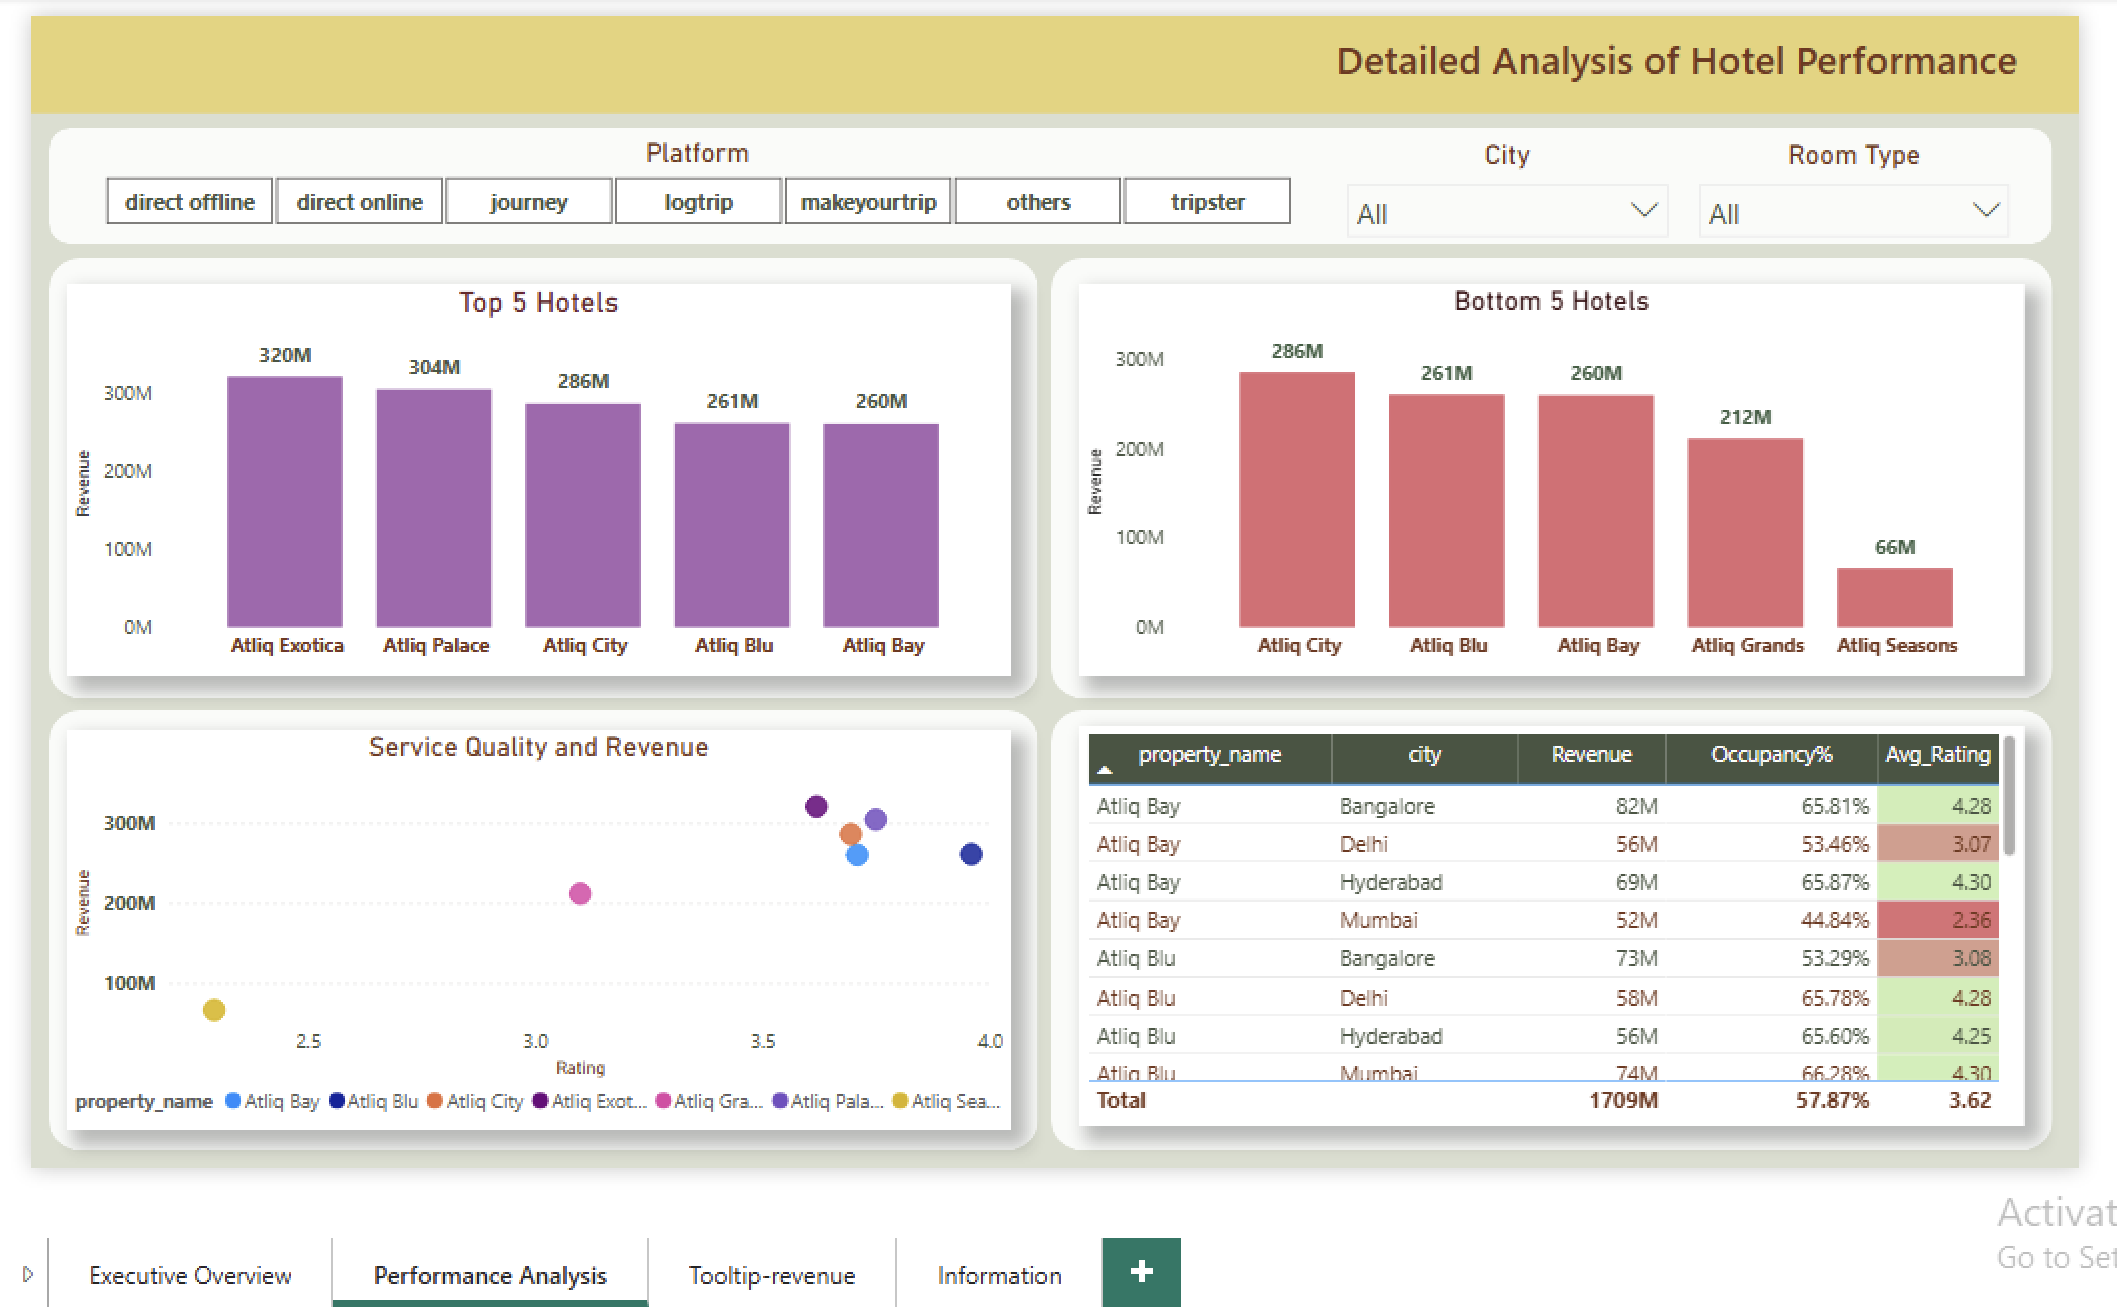

The page's visual inventory and layout, read from the dashboard file:
{"tool":"powerbi","page":{"name":"Performance Analysis","canvas":[1280,720],"ordinal":1},"visuals":[{"type":"shape","box":[11.5,151.7,618.3,275.4],"z":0},{"type":"shape","box":[637.5,151.7,626,275.4],"z":1000},{"type":"shape","box":[637.5,433.5,626,275.4],"z":2000},{"type":"shape","box":[0,0,1280,61.3],"z":5000},{"type":"shape","box":[11.5,433.5,618.3,275.4],"z":6000},{"type":"scatterChart","title":"Service Quality and Revenue","fields":{"X":["Key_Measures.Avg_Rating"],"Series":["dim_hotels.property_name"],"Y":["Key_Measures.Revenue"]},"box":[22.4,445.8,589.7,250.1],"z":7000},{"type":"tableEx","fields":{"Values":["dim_hotels.property_name","dim_hotels.city","Key_Measures.Revenue","Key_Measures.Occupancy%","Key_Measures.Avg_Rating"]},"box":[655.4,444.4,591.1,250.1],"z":8000},{"type":"columnChart","title":"Top 5 Hotels","fields":{"Y":["Key_Measures.Revenue"],"Category":["dim_hotels.property_name"]},"box":[22.4,167.7,589.7,244.5],"z":9000},{"type":"clusteredColumnChart","title":"Bottom 5 Hotels","fields":{"Category":["dim_hotels.property_name"],"Y":["Key_Measures.Revenue"]},"box":[655.4,167.7,591.1,244.5],"z":10000},{"type":"textbox","box":[677.4,4.8,569,50],"z":11000},{"type":"shape","box":[11.5,70.1,1252,72.7],"z":14000},{"type":"slicer","title":"City","fields":{"Values":["dim_hotels.city"]},"box":[812.1,76.5,220.6,66.3],"z":14500},{"type":"slicer","title":"Platform","fields":{"Values":["fact_bookings.booking_platform"]},"box":[21.7,75.2,790.4,62.5],"z":15000},{"type":"slicer","title":"Room Type","fields":{"Values":["dim_rooms.room_class"]},"box":[1032.7,76.5,214.2,66.3],"z":15500}]}

Visuals, with their boxes on the page's 1280x720 design canvas (x1, y1, x2, y2). These are canvas units, not pixel positions in the 2117x1307 screenshot, which may show the page scaled, cropped or inside an application window:
shape: bbox(12, 152, 630, 427)
shape: bbox(638, 152, 1264, 427)
shape: bbox(638, 434, 1264, 709)
shape: bbox(0, 0, 1280, 61)
shape: bbox(12, 434, 630, 709)
"Service Quality and Revenue" scatterChart: bbox(22, 446, 612, 696)
tableEx - dim_hotels.property_name x dim_hotels.city: bbox(655, 444, 1246, 694)
"Top 5 Hotels" columnChart: bbox(22, 168, 612, 412)
"Bottom 5 Hotels" clusteredColumnChart: bbox(655, 168, 1246, 412)
textbox: bbox(677, 5, 1246, 55)
shape: bbox(12, 70, 1264, 143)
"City" slicer: bbox(812, 76, 1033, 143)
"Platform" slicer: bbox(22, 75, 812, 138)
"Room Type" slicer: bbox(1033, 76, 1247, 143)
